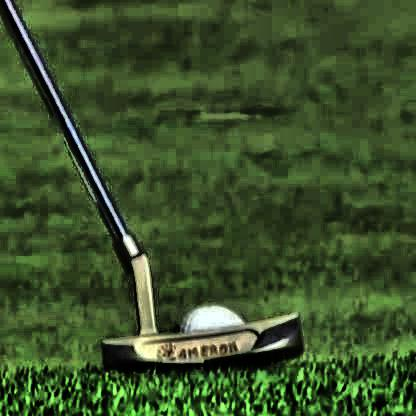golfball: (173, 317, 241, 348)
